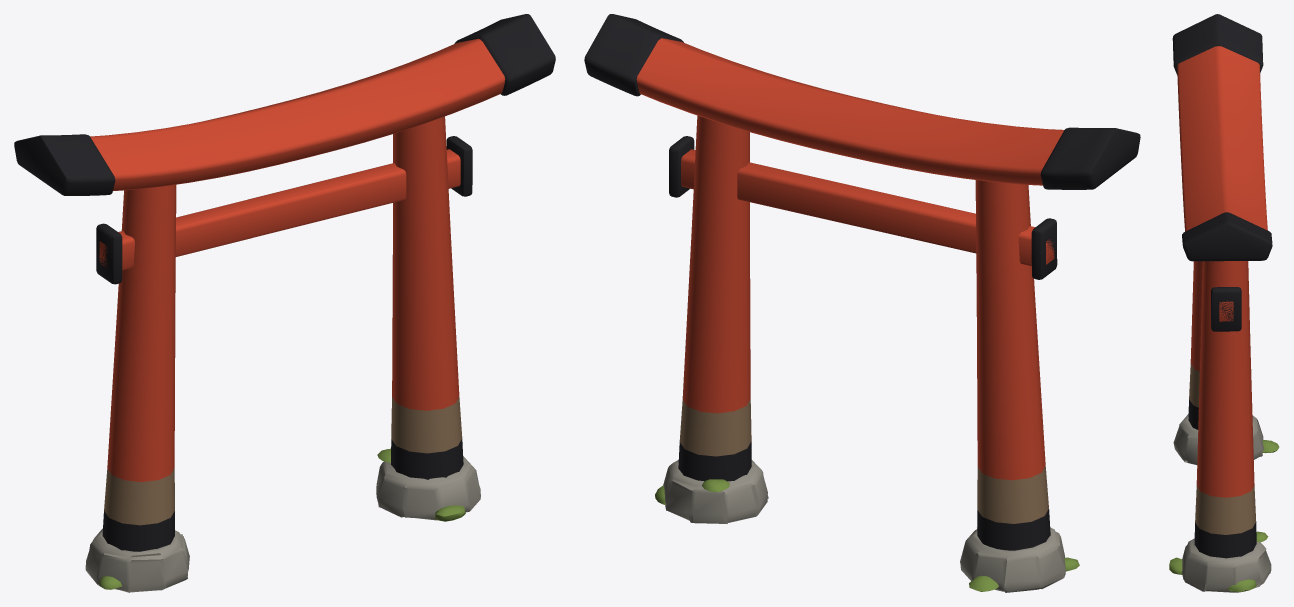
Rendered from torii_small.glb.
3 renders of one model, left to right at view 1: azimuth 30°, elevation 25°; view 2: azimuth 150°, elevation 25°; view 3: azimuth 270°, elevation 25°, orthographic. The views are drawn at different scales.
Parts seen in each view (by area): view 1: torii_small; view 2: torii_small; view 3: torii_small.
Boxes of the visible parts, left/top/right/bottom form: torii_small: left=14, top=14, right=555, bottom=592; torii_small: left=584, top=14, right=1140, bottom=592; torii_small: left=1169, top=14, right=1279, bottom=592.
Size of what is drawn, in the model's own units: 2.73 by 2.42 by 0.6073.
